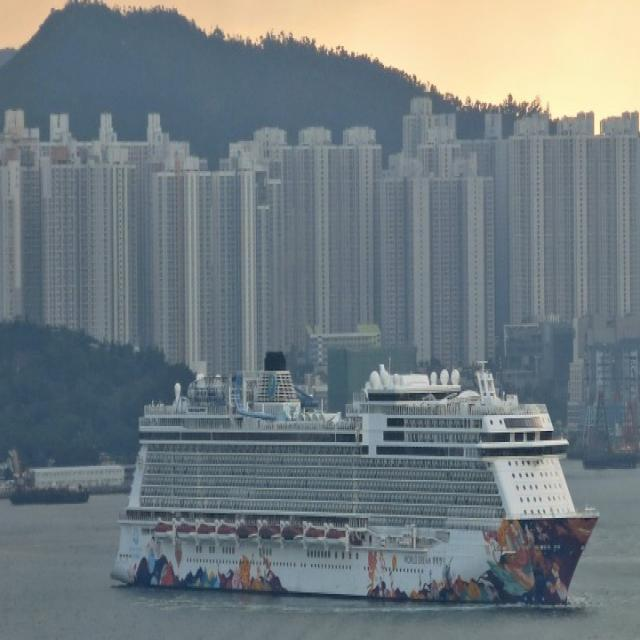cruises: (105, 342, 603, 619)
